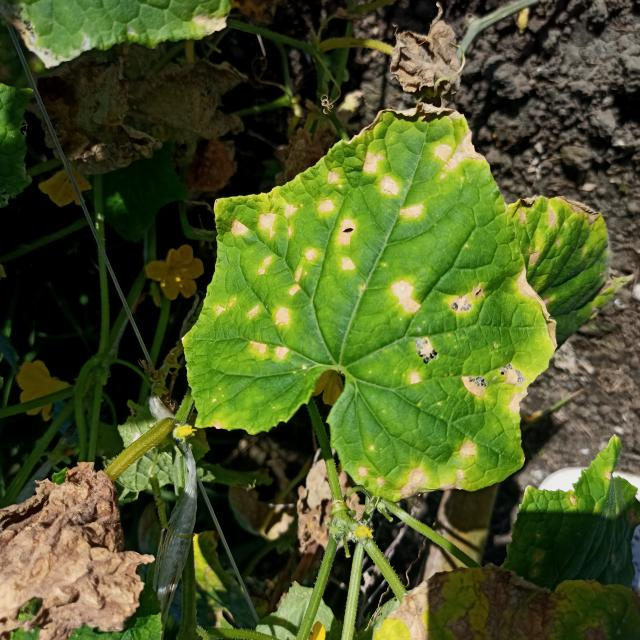disease_cucumber: (202, 116, 553, 495)
